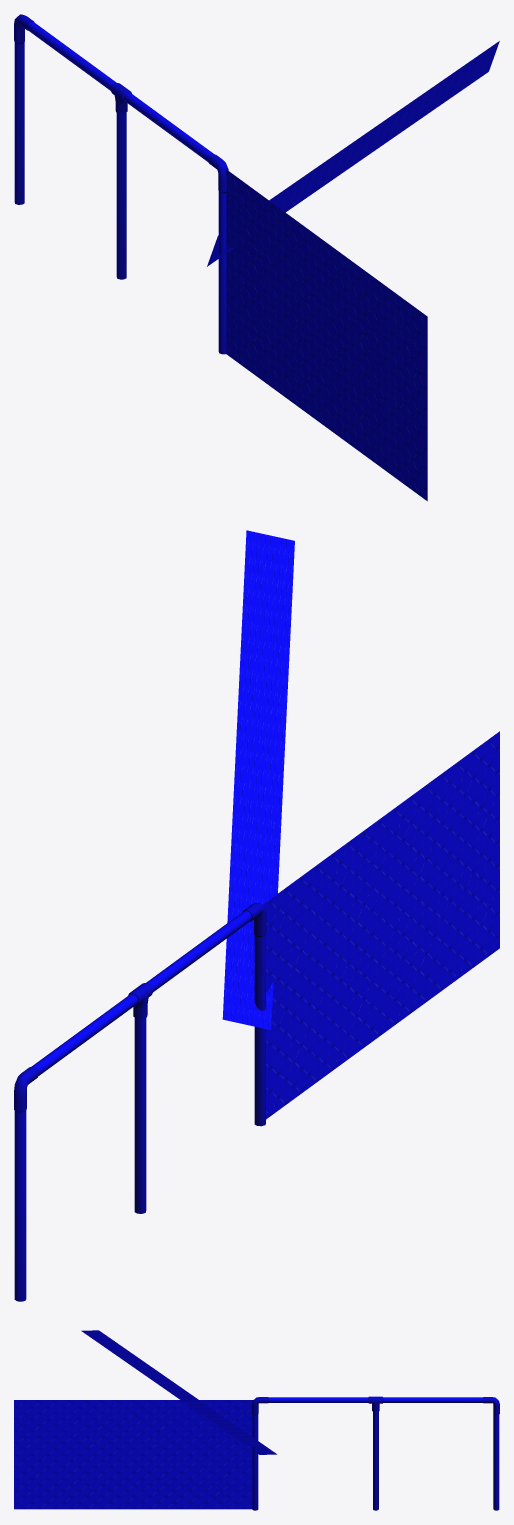
The model's file is fence.fbx.
The picture shows the model from 3 angles, top to bottom: view 1: azimuth 30°, elevation 25°; view 2: azimuth 150°, elevation 25°; view 3: azimuth 270°, elevation 25°; orthographic projection. The views are drawn at different scales.
Parts seen in each view (by area): view 1: wirefence_b, fancy, wirefence_f; view 2: wirefence_b, wirefence_f, fancy; view 3: wirefence_b, fancy, wirefence_f.
Boxes of the visible parts, x1,y1,x2,y2 form: wirefence_b: [225, 169, 427, 501]; fancy: [14, 14, 228, 354]; wirefence_f: [207, 41, 499, 266]; wirefence_b: [263, 731, 499, 1119]; wirefence_f: [222, 530, 294, 1029]; fancy: [14, 902, 266, 1301]; wirefence_b: [14, 1400, 252, 1509]; fancy: [252, 1396, 499, 1510]; wirefence_f: [81, 1330, 276, 1454].
Bounding box in the file's own units: 356 × 807 × 1612.
